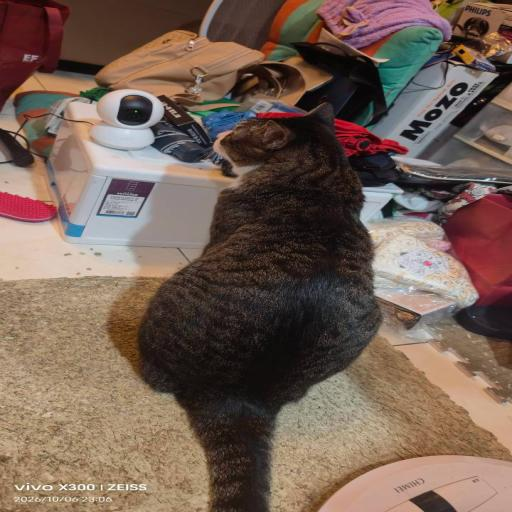cat: (185, 116, 370, 428)
